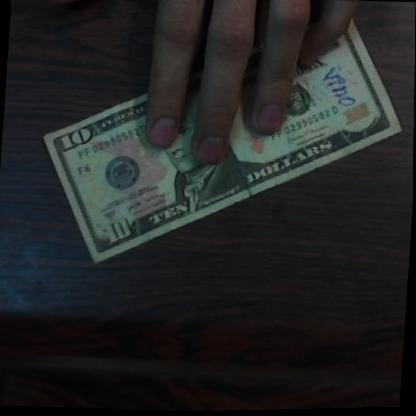ten-front: (29, 0, 408, 280)
